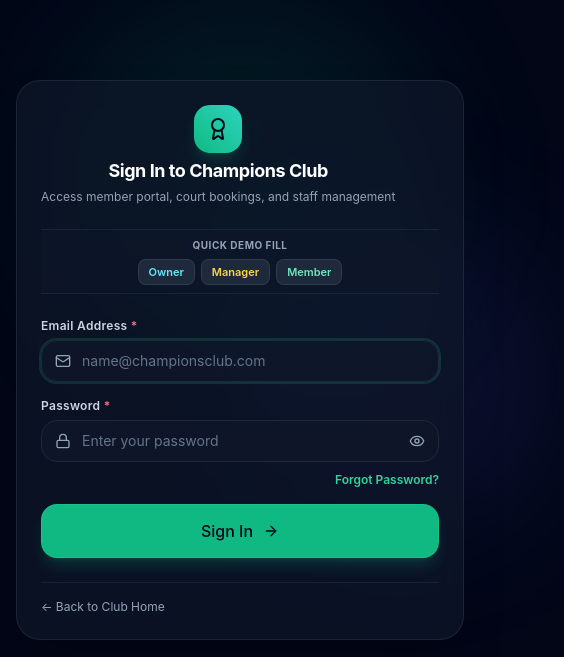
Auth & RBAC Frontend Suite › Login Page Behaviors › renders login form and populates credentials using Quick Demo pills
Check: the heading "Sign In to Champions Club" is shown, box 108,160 -> 328,181
Check: the field labelled "Email Address *" is shown, box 41,340 -> 439,382
// Click "Owner" demo button
Click the button "Owner". click: (166, 272)
box: 138,259 -> 195,285
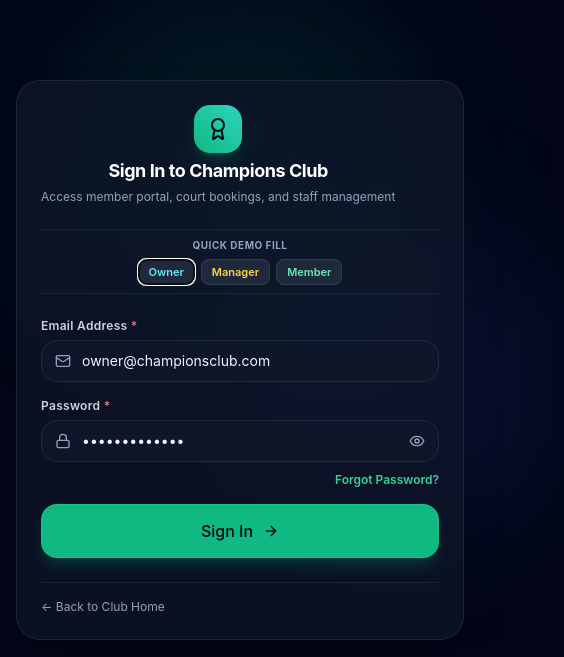
Check: the field labelled "Email Address *" holds "owner@championsclub.com", box 41,340 -> 439,382
Check: the password field with placeholder "Enter your password" holds "Champions@123", box 41,420 -> 439,462
